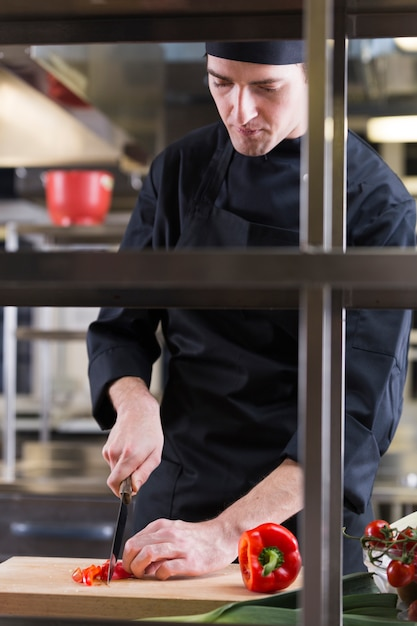knife: (108, 486, 131, 583)
